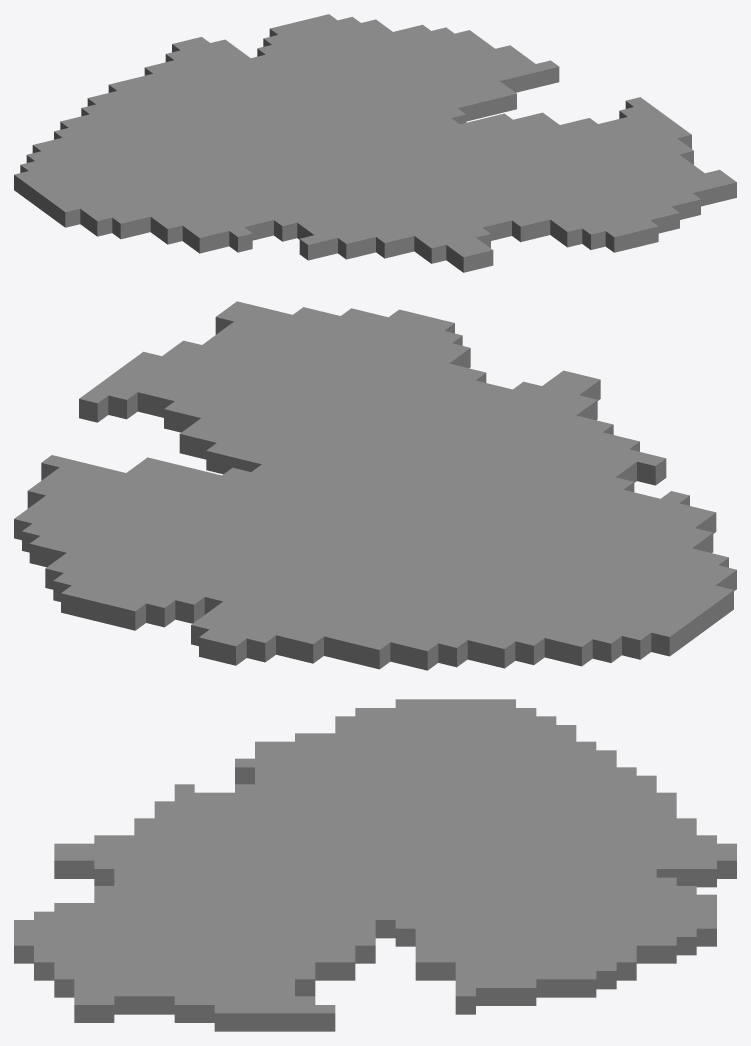
The model's file is Liquid Puddle.obj.
3 renders of one model, top to bottom at view 1: azimuth 30°, elevation 25°; view 2: azimuth 150°, elevation 25°; view 3: azimuth 270°, elevation 25°, orthographic. The views are drawn at different scales.
Bounding box in the file's own units: 3.7 × 0.1 × 3.6.
Materials: 1 (1 with a texture image).
